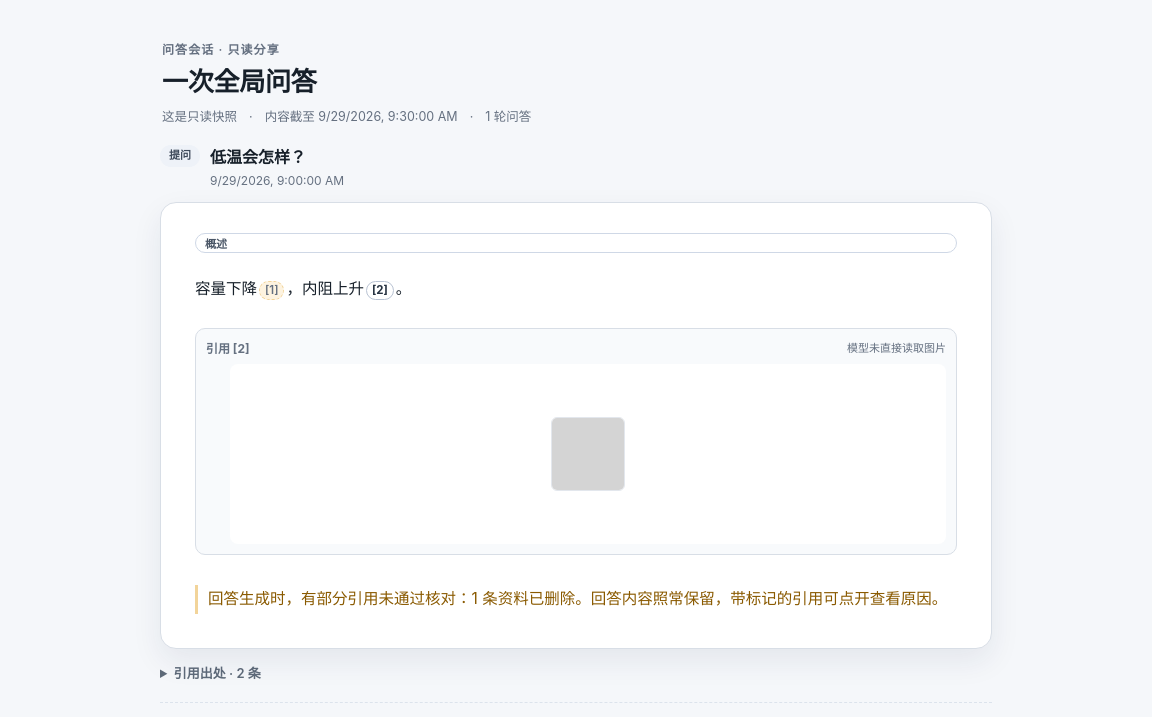
Test: the public page states the check in the past tense and marks the flagged reference
点带标记的标记:与站内同一张引用卡,原因行在卡上,没有任何「去原处看」的出口。
Step 1. Click the button named "[1] 未通过核对：资料已删除" → (272, 290), box [259,281,284,300]
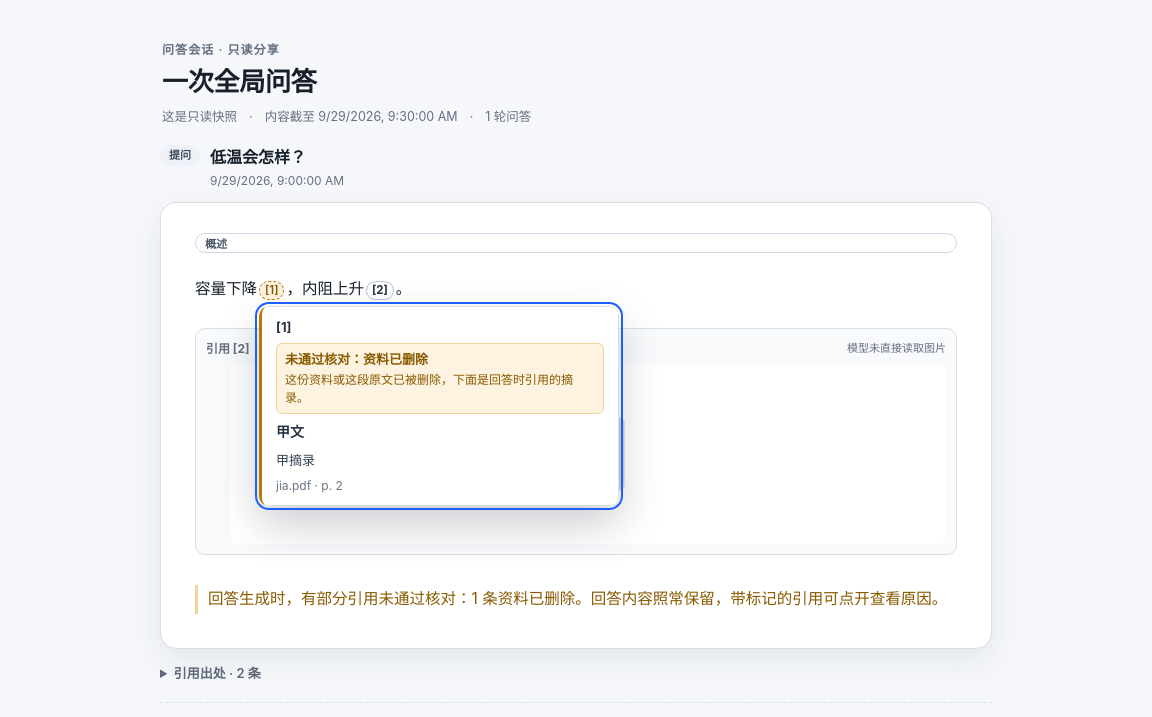
expect the dialog shows "未通过核对：资料已删除": met, box [259,306,619,506]
expect the dialog shows "甲摘录": met, box [276,452,315,468]
